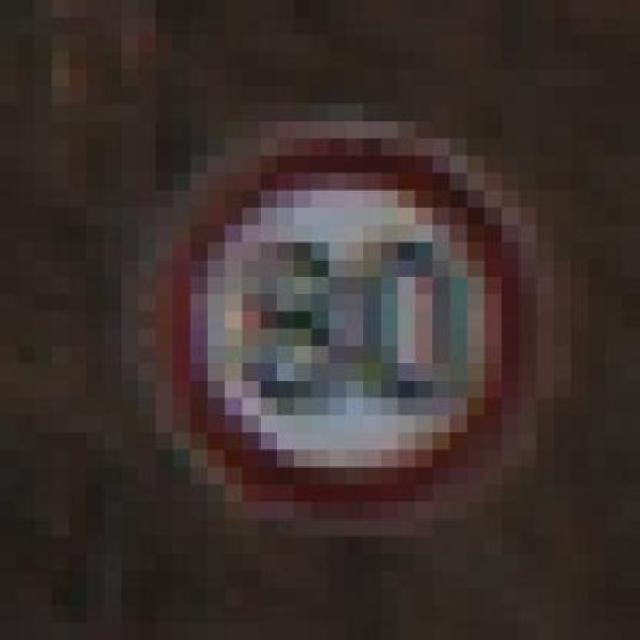forb_speed_over_80: (158, 130, 541, 521)
